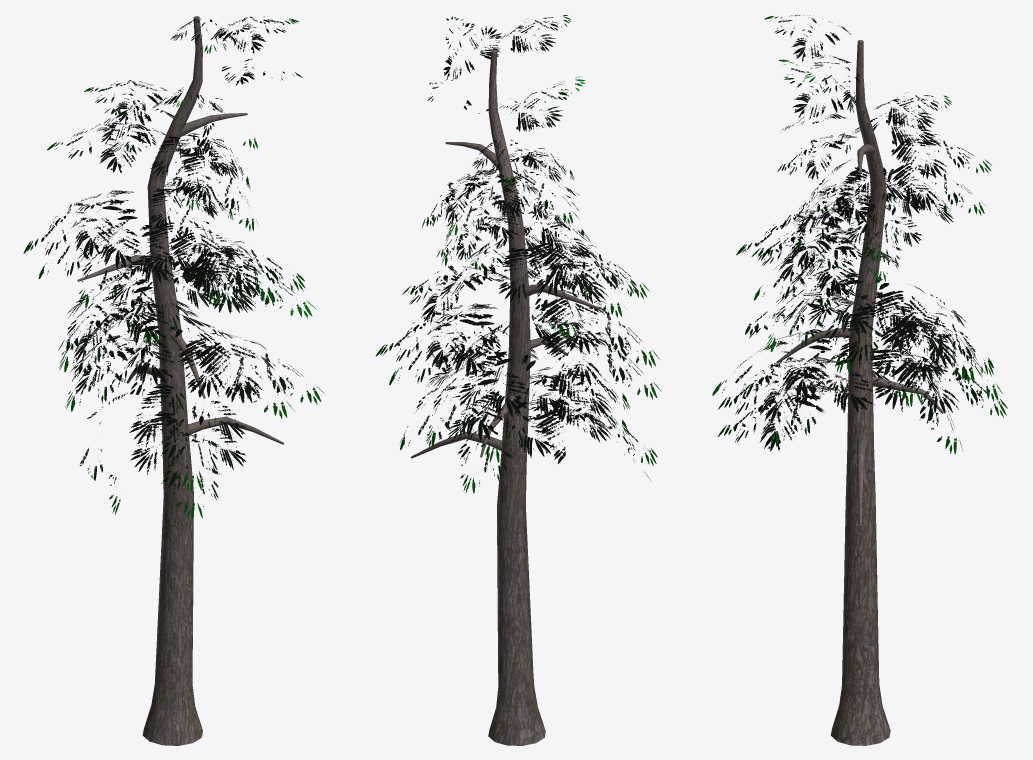
The model's file is Pine 3.fbx.
3 renders of one model, left to right at view 1: azimuth 30°, elevation 25°; view 2: azimuth 150°, elevation 25°; view 3: azimuth 270°, elevation 25°, orthographic. The views are drawn at different scales.
Parts seen in each view (by area): view 1: tree2; view 2: tree2; view 3: tree2.
Part boxes in pixels (left/top/right/bottom): tree2: left=23, top=16, right=324, bottom=745; tree2: left=375, top=15, right=661, bottom=745; tree2: left=712, top=14, right=1007, bottom=745.
Bounding box in the file's own units: 509 × 1293 × 516.
